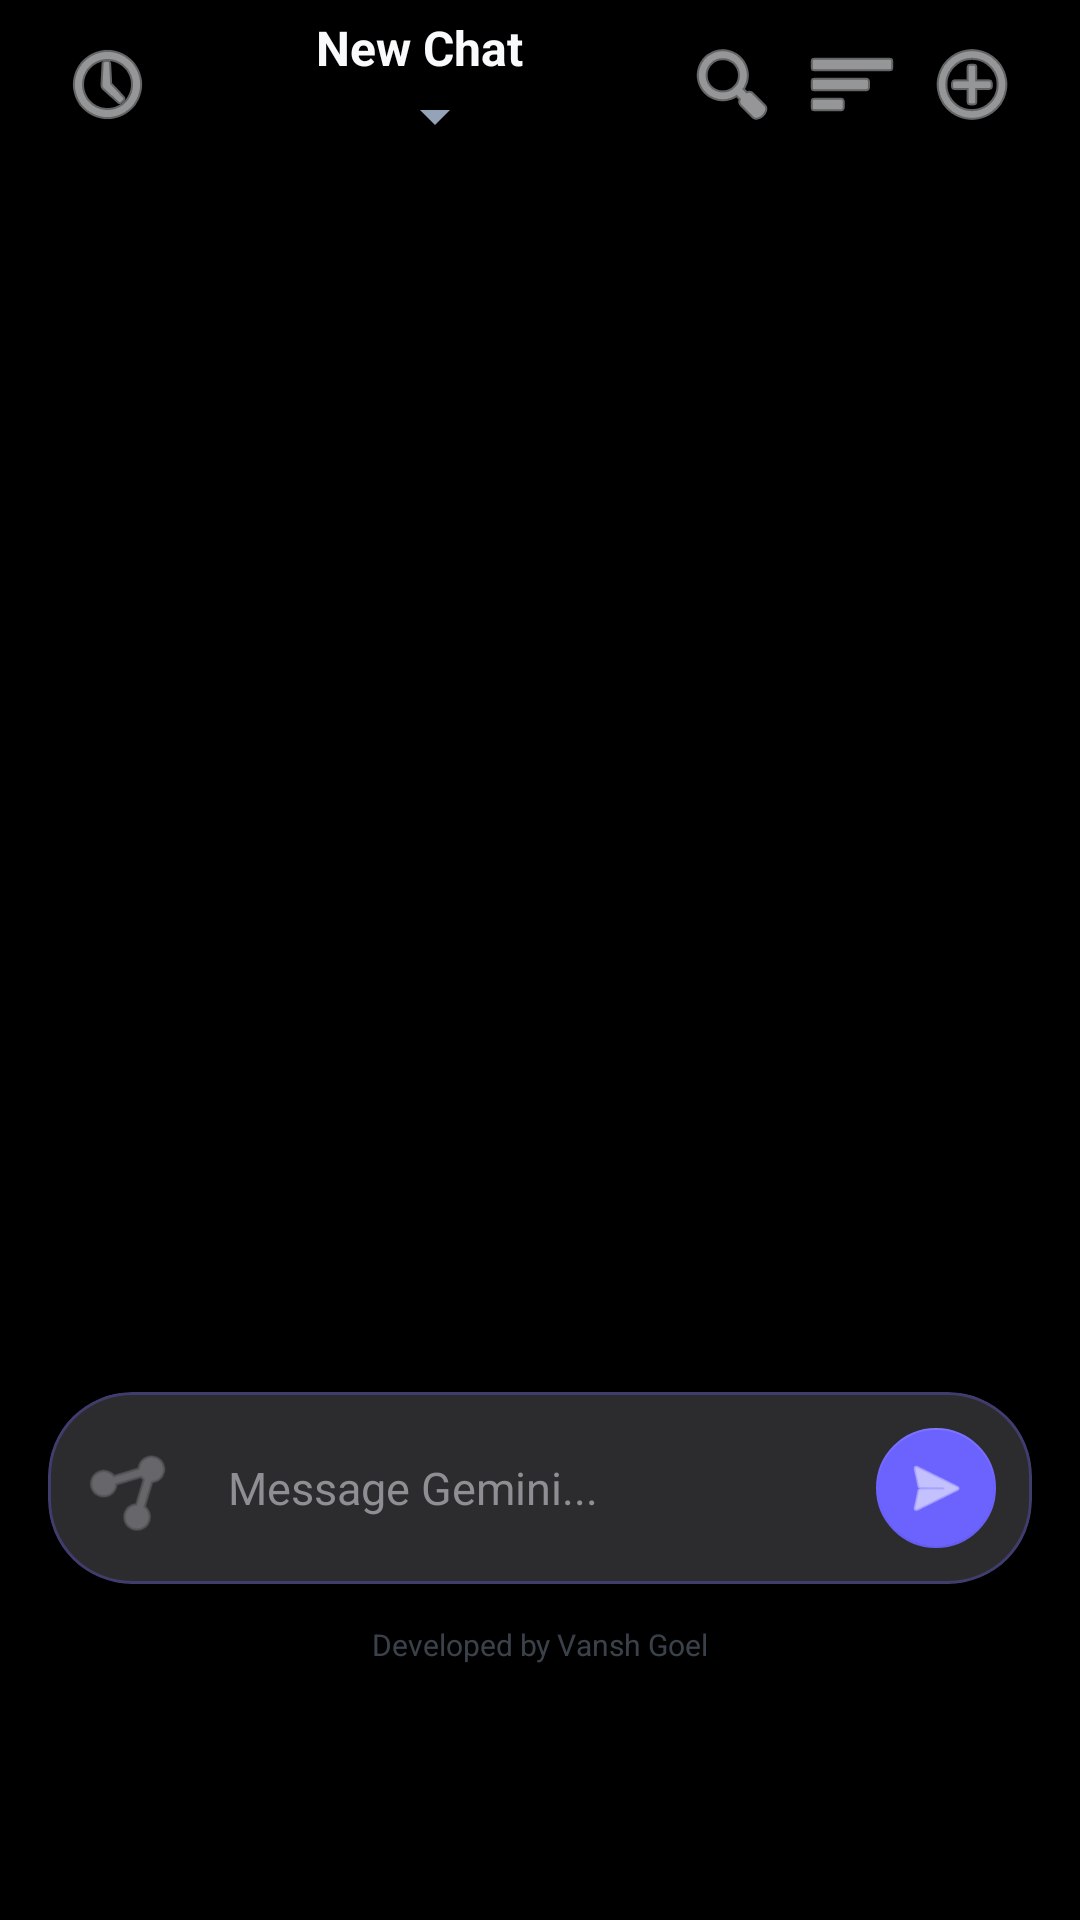

Icon click points for this 1080px×1920px phone screenshot, format (x,y):
add: (972,84)
recent history: (107,84)
search: (732,84)
send: (936,1488)
sort by size: (852,84)
